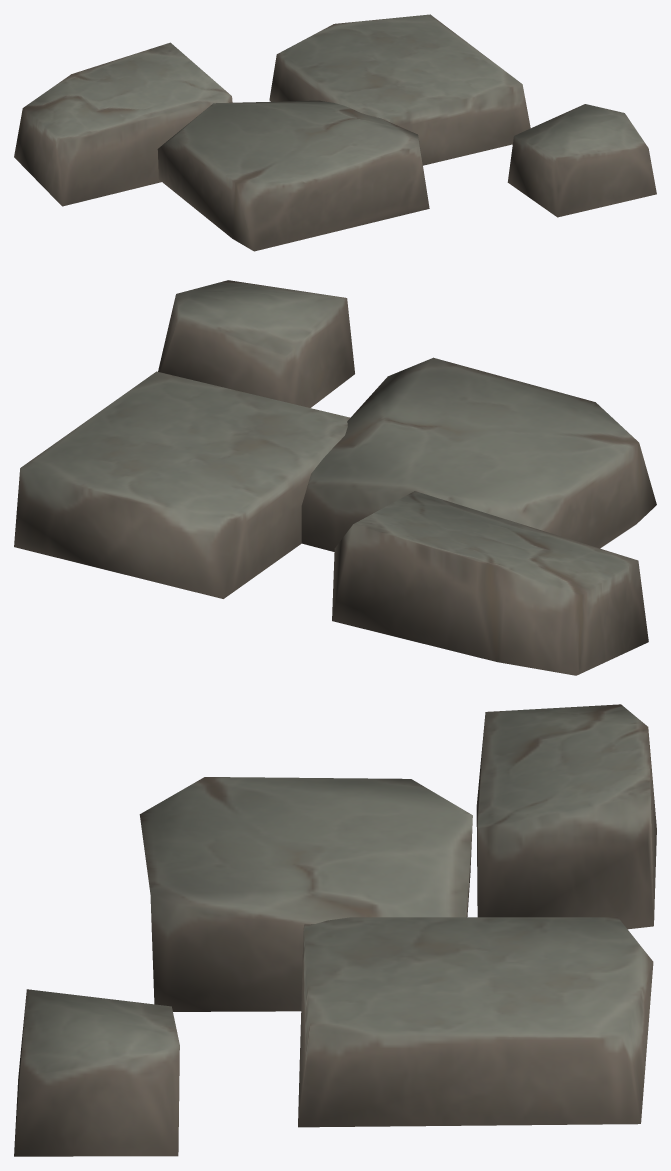
The model's file is SM_FW01_Floor_Tile_Group_04.fbx.
3 views of the same model, one above another, from view 1: azimuth 30°, elevation 25°; view 2: azimuth 150°, elevation 25°; view 3: azimuth 270°, elevation 25° (orthographic). The views are drawn at different scales.
Visible parts, largest first — view 1: SM_FW01_Floor_Tile_Group_04; view 2: SM_FW01_Floor_Tile_Group_04; view 3: SM_FW01_Floor_Tile_Group_04.
Boxes of the visible parts, left/top/right/bottom form: SM_FW01_Floor_Tile_Group_04: left=14, top=14, right=656, bottom=251; SM_FW01_Floor_Tile_Group_04: left=14, top=280, right=656, bottom=675; SM_FW01_Floor_Tile_Group_04: left=14, top=704, right=656, bottom=1156.
Size of the model in its own units: 0.9212 by 0.1661 by 0.6946.
